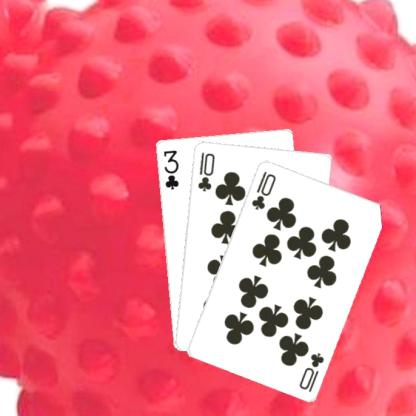10C: (296, 349, 326, 394), (249, 168, 277, 211), (195, 149, 216, 193)
3C: (160, 147, 180, 190)
